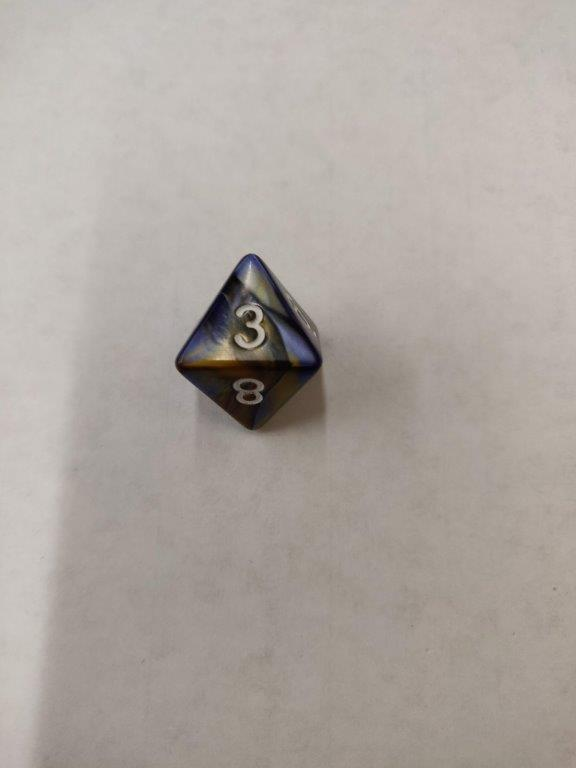d8-3: (174, 252, 323, 435)
